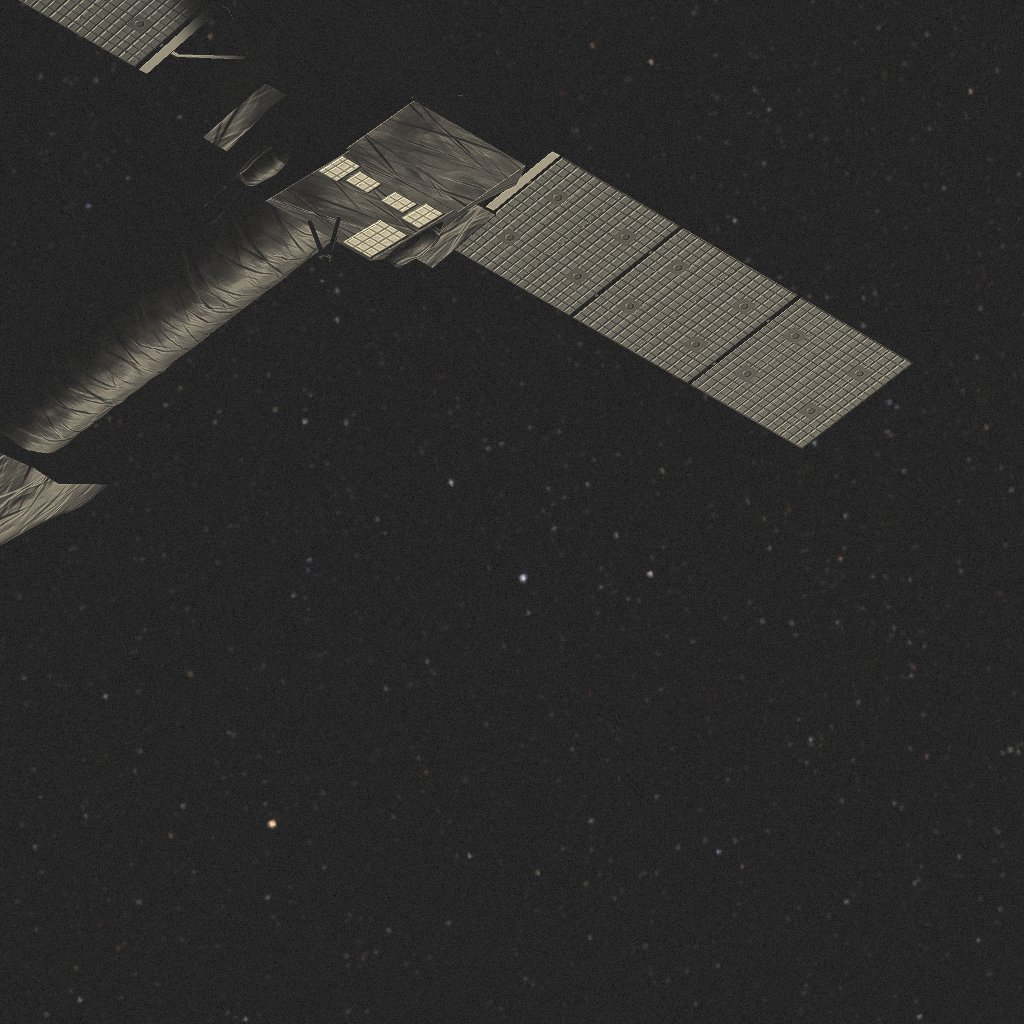xmm_newton: (11, 25, 915, 542)
